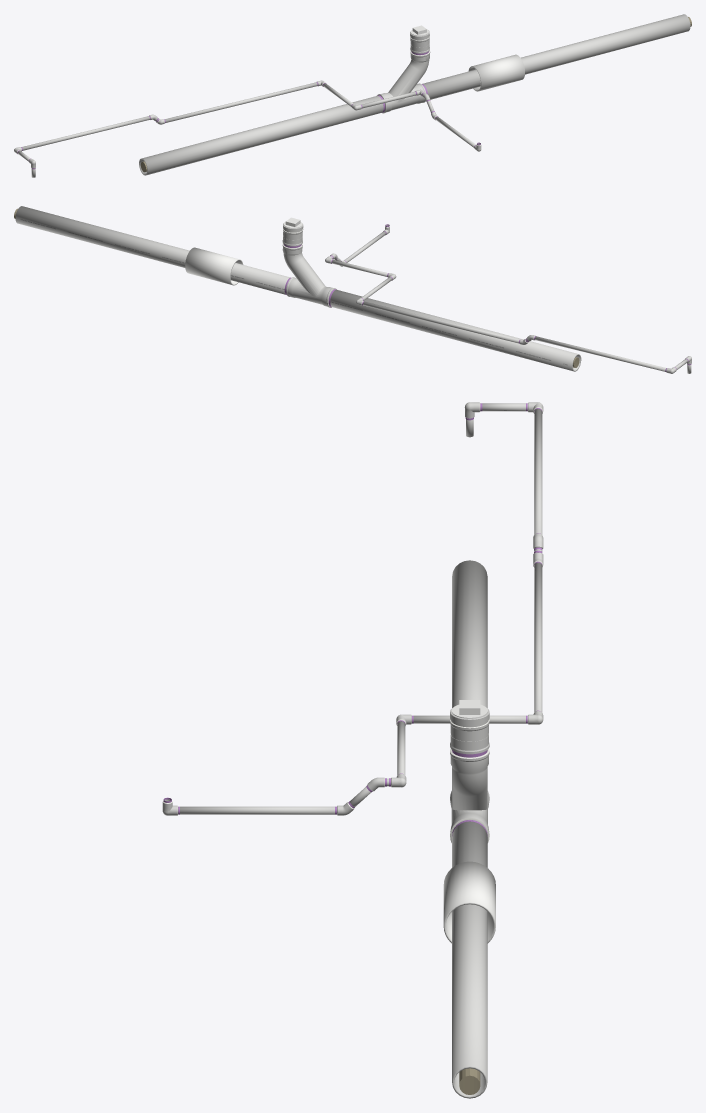
Rendered from slab_pipes_dwv__sewer-septic_spray+septic_overland_lee.glb.
3 renders of one model, top to bottom at view 1: azimuth 30°, elevation 25°; view 2: azimuth 150°, elevation 25°; view 3: azimuth 270°, elevation 25°, orthographic. The views are drawn at different scales.
Visible parts, largest first — view 1: pipe_dwv_sewer_septic, pipe_septic_air_line, cleanout_dwv_yard_spray, pipe_dwv_sewer_septic_sleeve; view 2: pipe_dwv_sewer_septic, pipe_septic_air_line, cleanout_dwv_yard_spray, pipe_dwv_sewer_septic_sleeve; view 3: pipe_dwv_sewer_septic, pipe_septic_air_line, cleanout_dwv_yard_spray, pipe_dwv_sewer_septic_sleeve.
Boxes of the visible parts, x1=… form: pipe_dwv_sewer_septic: x1=139, y1=14, x2=690, y2=175; pipe_septic_air_line: x1=14, y1=80, x2=481, y2=177; cleanout_dwv_yard_spray: x1=377, y1=30, x2=430, y2=113; pipe_dwv_sewer_septic_sleeve: x1=468, y1=54, x2=524, y2=91; pipe_dwv_sewer_septic: x1=15, y1=206, x2=581, y2=371; pipe_septic_air_line: x1=325, y1=224, x2=691, y2=373; cleanout_dwv_yard_spray: x1=282, y1=223, x2=336, y2=307; pipe_dwv_sewer_septic_sleeve: x1=185, y1=247, x2=243, y2=285; pipe_dwv_sewer_septic: x1=452, y1=560, x2=487, y2=1098; pipe_septic_air_line: x1=162, y1=402, x2=543, y2=815; cleanout_dwv_yard_spray: x1=450, y1=708, x2=489, y2=842; pipe_dwv_sewer_septic_sleeve: x1=443, y1=861, x2=495, y2=943.
Bounding box in the file's own units: 4.88 × 0.5618 × 1.22.
